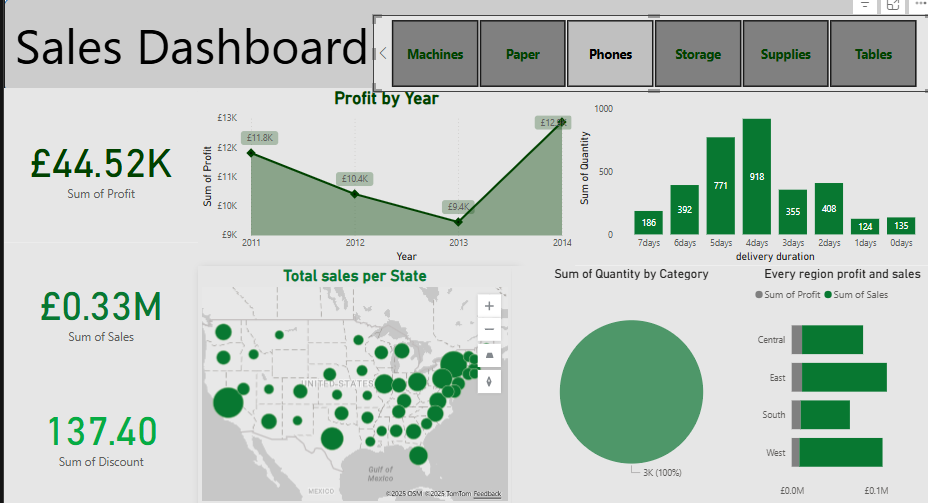

The dashboard page shown, as its layout file describes it:
{"tool":"powerbi","page":{"name":"Page 1","canvas":[1280,720],"ordinal":0},"visuals":[{"type":"shape","title":"    ","box":[0,0,1280,152.9],"z":0},{"type":"card","fields":{"Values":["Sum(Data.Profit)"]},"box":[0,147.3,267,213.3],"z":1000},{"type":"card","fields":{"Values":["Sum(Data.Discount)"]},"box":[0,527.1,267,192.7],"z":2000},{"type":"card","fields":{"Values":["Sum(Data.Sales)"]},"box":[0,360.6,267,181.7],"z":3000},{"type":"areaChart","title":"Profit by Year","fields":{"Category":["Data.Year"],"Y":["Sum(Data.Profit)"]},"box":[267,147.3,518.9,245],"z":4000},{"type":"azureMap","title":"Total sales per State","fields":{"Size":["Sum(Data.Sales)"],"Category":["Data.State"]},"box":[267,392.3,432.2,327.6],"z":5000},{"type":"pieChart","fields":{"Category":["Data.Category"],"Y":["Sum(Data.Quantity)"]},"box":[699.2,392.3,328.9,327.6],"z":6000},{"type":"slicer","fields":{"Values":["Data.Sub-Category"]},"box":[507.9,46.8,772.1,106],"z":7000},{"type":"clusteredColumnChart","fields":{"Category":["Data.delivery duration"],"Y":["Sum(Data.Quantity)"]},"box":[786,153,494,239],"z":8000},{"type":"barChart","title":"Every region profit and sales ","fields":{"Category":["Data.Region"],"Y":["Sum(Data.Profit)","Sum(Data.Sales)"]},"box":[1028,392,252,328],"z":9000}]}

Visuals, with their boxes on the page's 1280x720 design canvas (x1, y1, x2, y2). These are canvas units, not pixel positions in the 928x503 screenshot, which may show the page scaled, cropped or inside an application window:
"    " shape: 0 0 1280 153
card - Sum(Data.Profit): 0 147 267 361
card - Sum(Data.Discount): 0 527 267 720
card - Sum(Data.Sales): 0 361 267 542
"Profit by Year" areaChart: 267 147 786 392
"Total sales per State" azureMap: 267 392 699 720
pieChart - Data.Category x Sum(Data.Quantity): 699 392 1028 720
slicer - Data.Sub-Category: 508 47 1280 153
clusteredColumnChart - Data.delivery duration x Sum(Data.Quantity): 786 153 1280 392
"Every region profit and sales " barChart: 1028 392 1280 720
